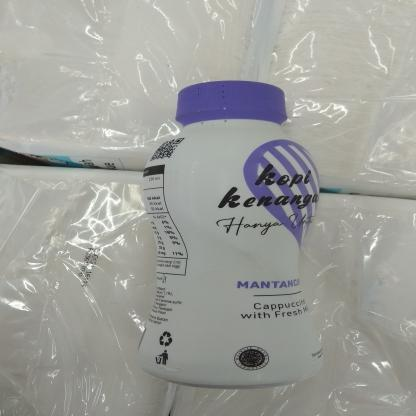plastic: (133, 76, 336, 389)
